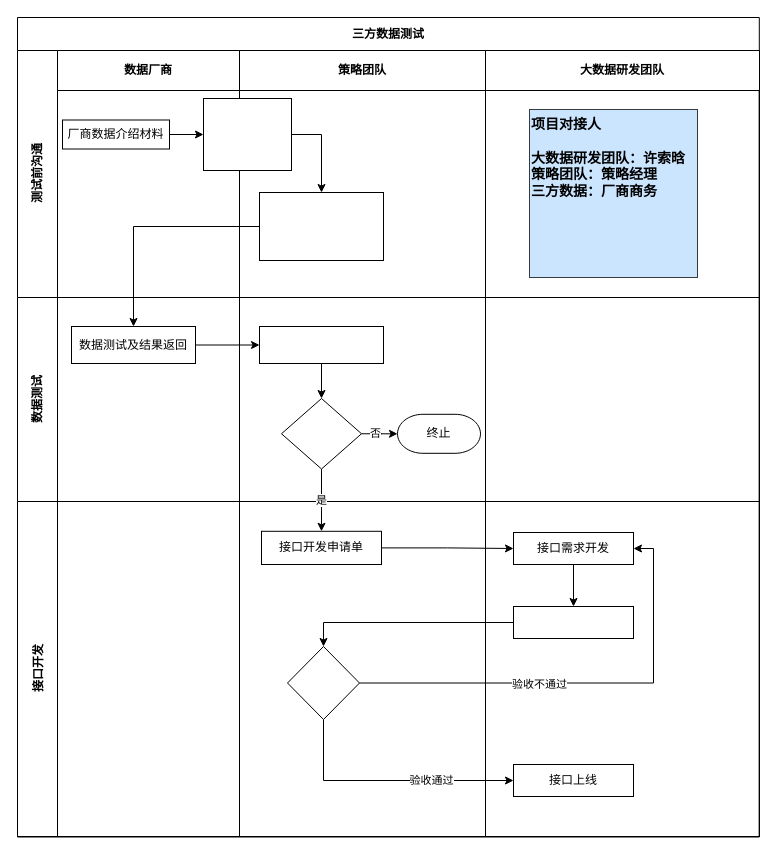
The diagram is 777 pixels wide and 855 high, and some of its shapes have lost their labels. Each missing label, with the box of its shape:
字段测试: (512, 606, 634, 638)
接口上线 测试验收: (286, 646, 360, 720)
数据测试报告: (258, 326, 384, 364)
是否接入: (280, 398, 362, 469)
测试准备 1、数据提取； 2、数据外发OA流程； 3、数据外发: (258, 192, 384, 260)
测试前沟通 1、使用节点； 2、提供字段； 3、样本量； 4、测试产品: (202, 98, 292, 170)
